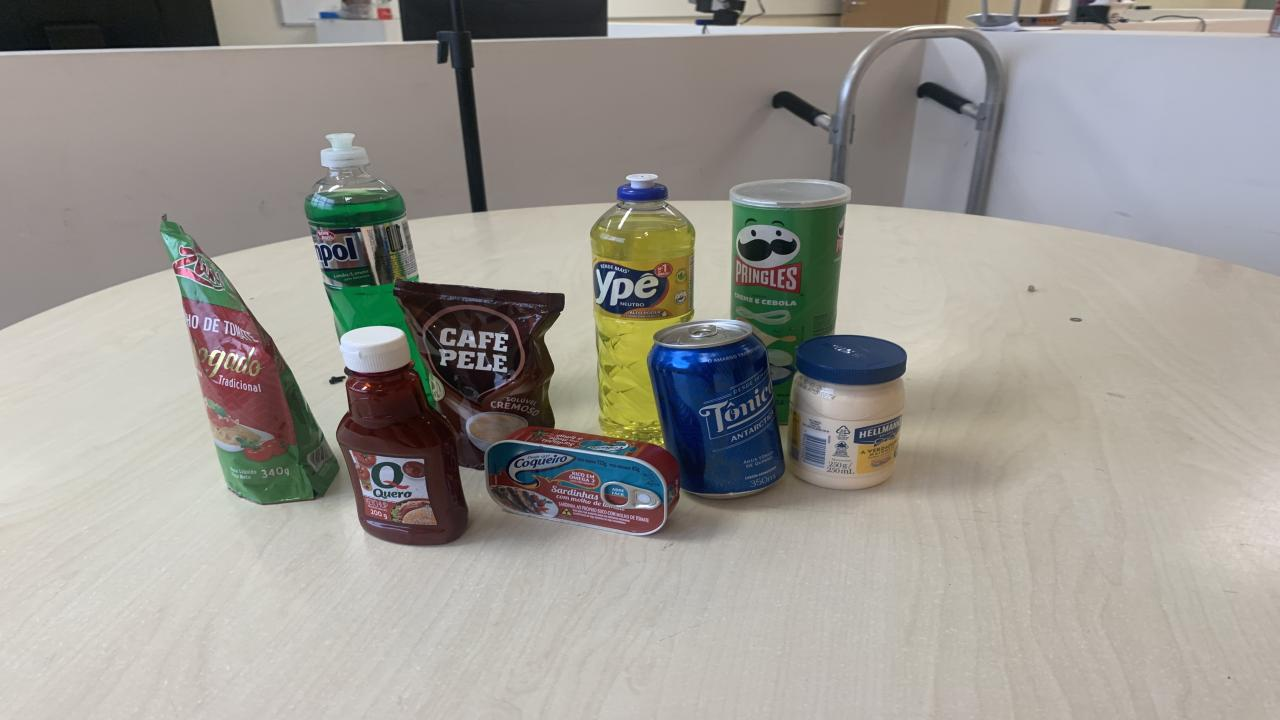Coffee-Pantry_Items: (392, 281, 565, 469)
Detergent-Cleanup_Items: (590, 174, 695, 442), (305, 133, 418, 336), (410, 338, 430, 398)
Ketchup-Pantry_Items: (338, 324, 468, 546)
Mayonnaise-Pantry_Items: (790, 334, 908, 489)
Pringles-Snacks: (730, 178, 850, 424)
Tomato_Sauce-Pantry_Items: (160, 219, 340, 504)
Tonic-Drinks: (648, 319, 785, 499)
Tuna_Can-Pantry_Items: (485, 428, 680, 534)
